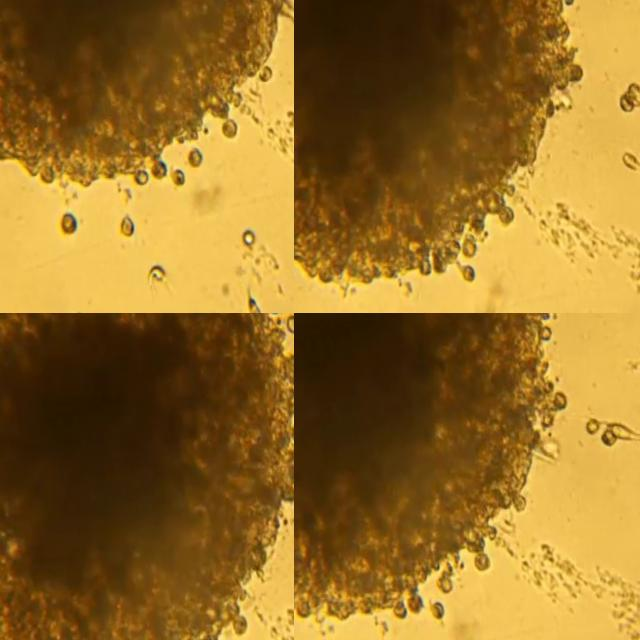cell: (606, 417, 639, 434), (145, 262, 170, 282), (60, 211, 79, 232), (249, 290, 264, 313), (621, 145, 639, 163), (598, 422, 618, 438), (624, 80, 640, 99), (585, 411, 600, 430), (242, 223, 256, 243), (119, 213, 132, 233), (186, 145, 201, 162), (431, 599, 446, 616), (222, 117, 238, 132), (173, 166, 186, 181), (619, 90, 630, 105), (285, 313, 294, 330)
tumor_mass: (294, 0, 582, 292), (294, 313, 567, 617)
